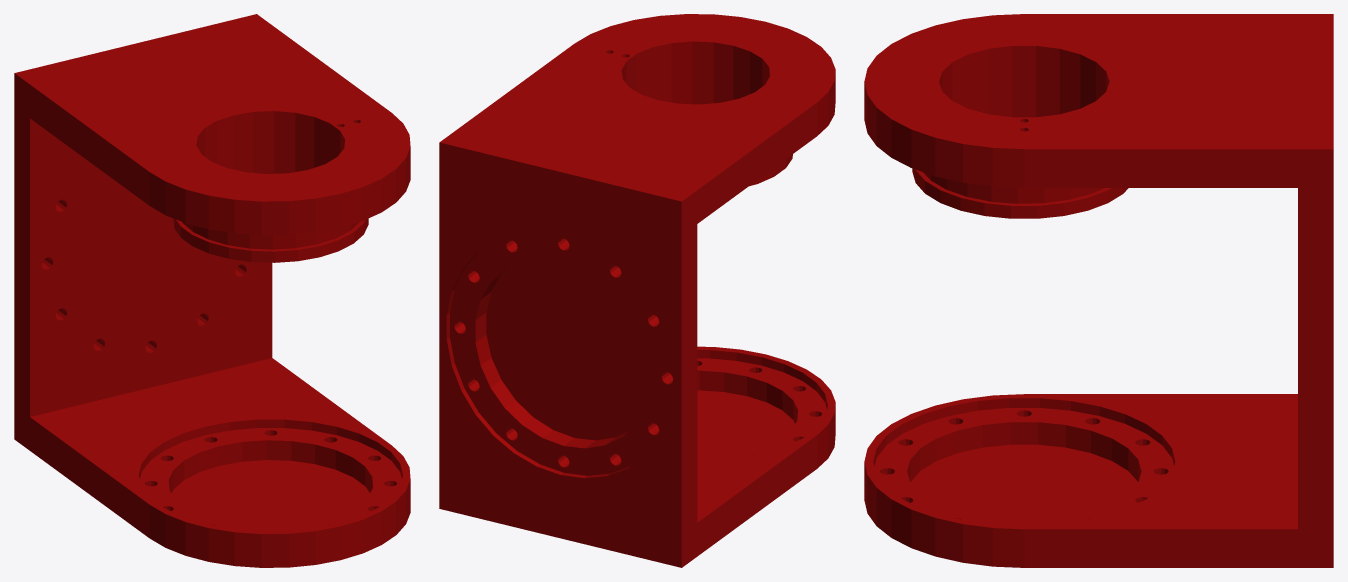
Rendered from waist1.obj.
3 views of the same model, side by side, from view 1: azimuth 30°, elevation 25°; view 2: azimuth 150°, elevation 25°; view 3: azimuth 270°, elevation 25° (orthographic). The views are drawn at different scales.
Visible parts, largest first — view 1: waist1; view 2: waist1; view 3: waist1.
Part boxes in pixels (<box>): waist1: <box>14,14,410,567</box>; waist1: <box>439,14,835,567</box>; waist1: <box>864,14,1333,567</box>.
Size of the model in its own units: 0.09 by 0.13 by 0.132.
